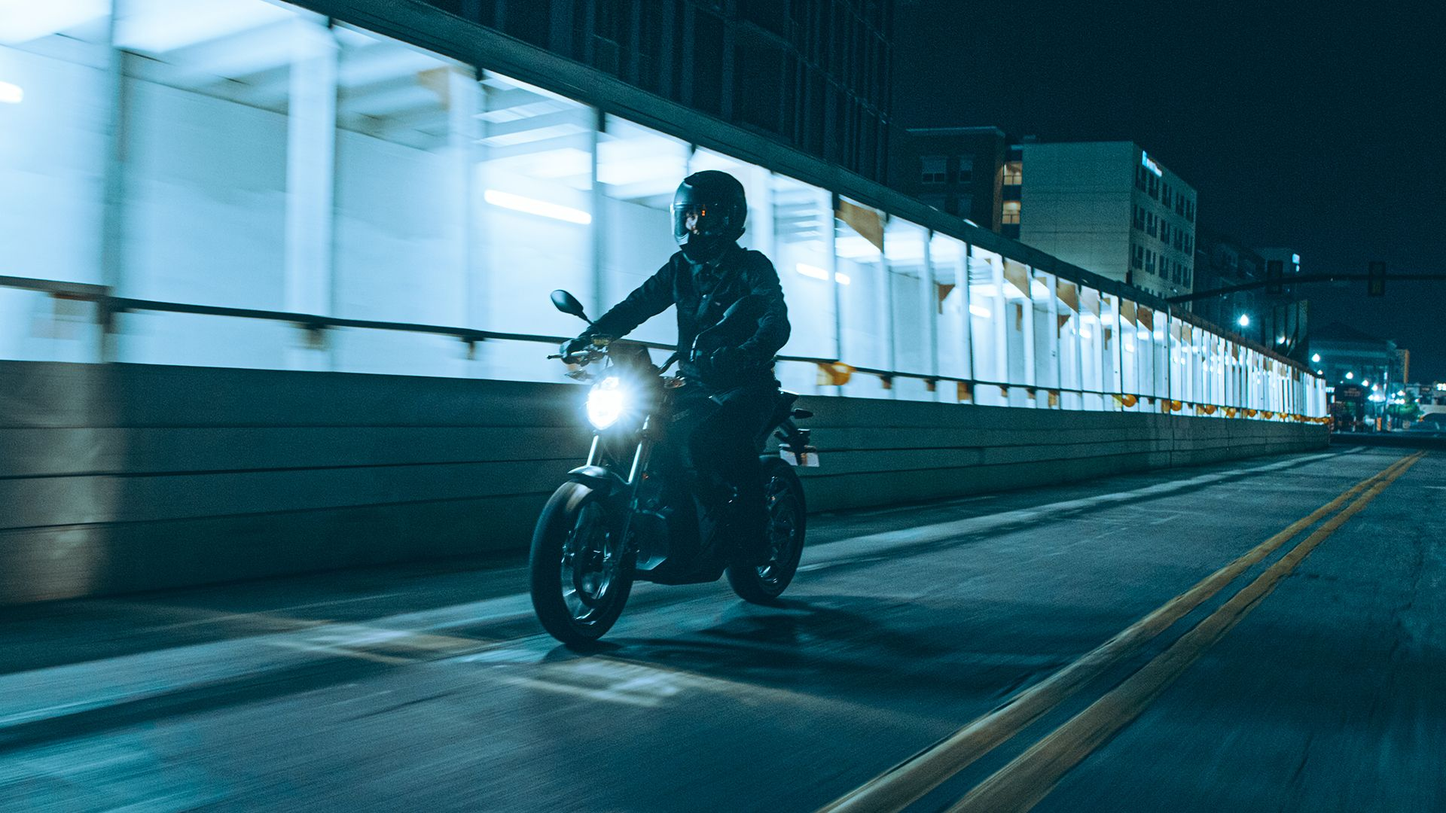Motorcycle: (508, 291, 826, 644)
